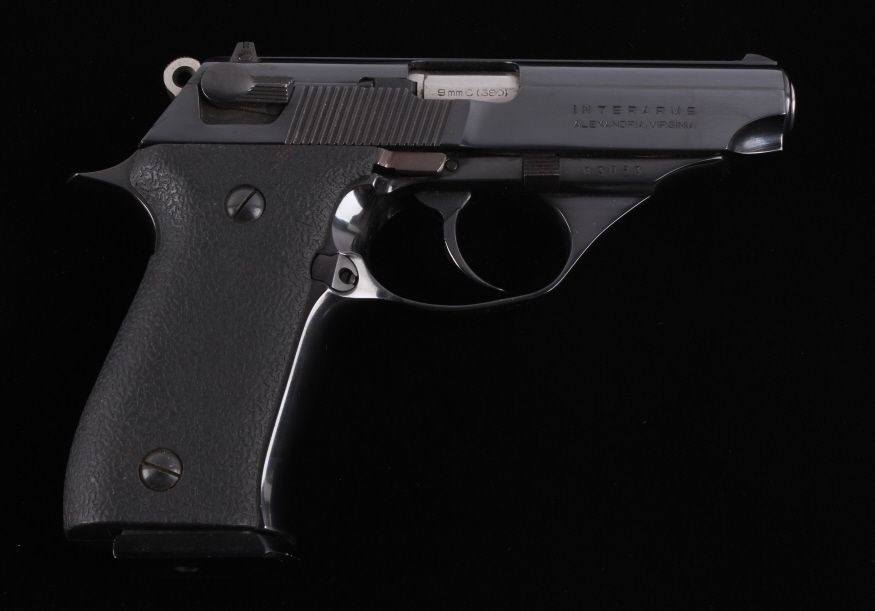gun: (61, 31, 811, 565)
